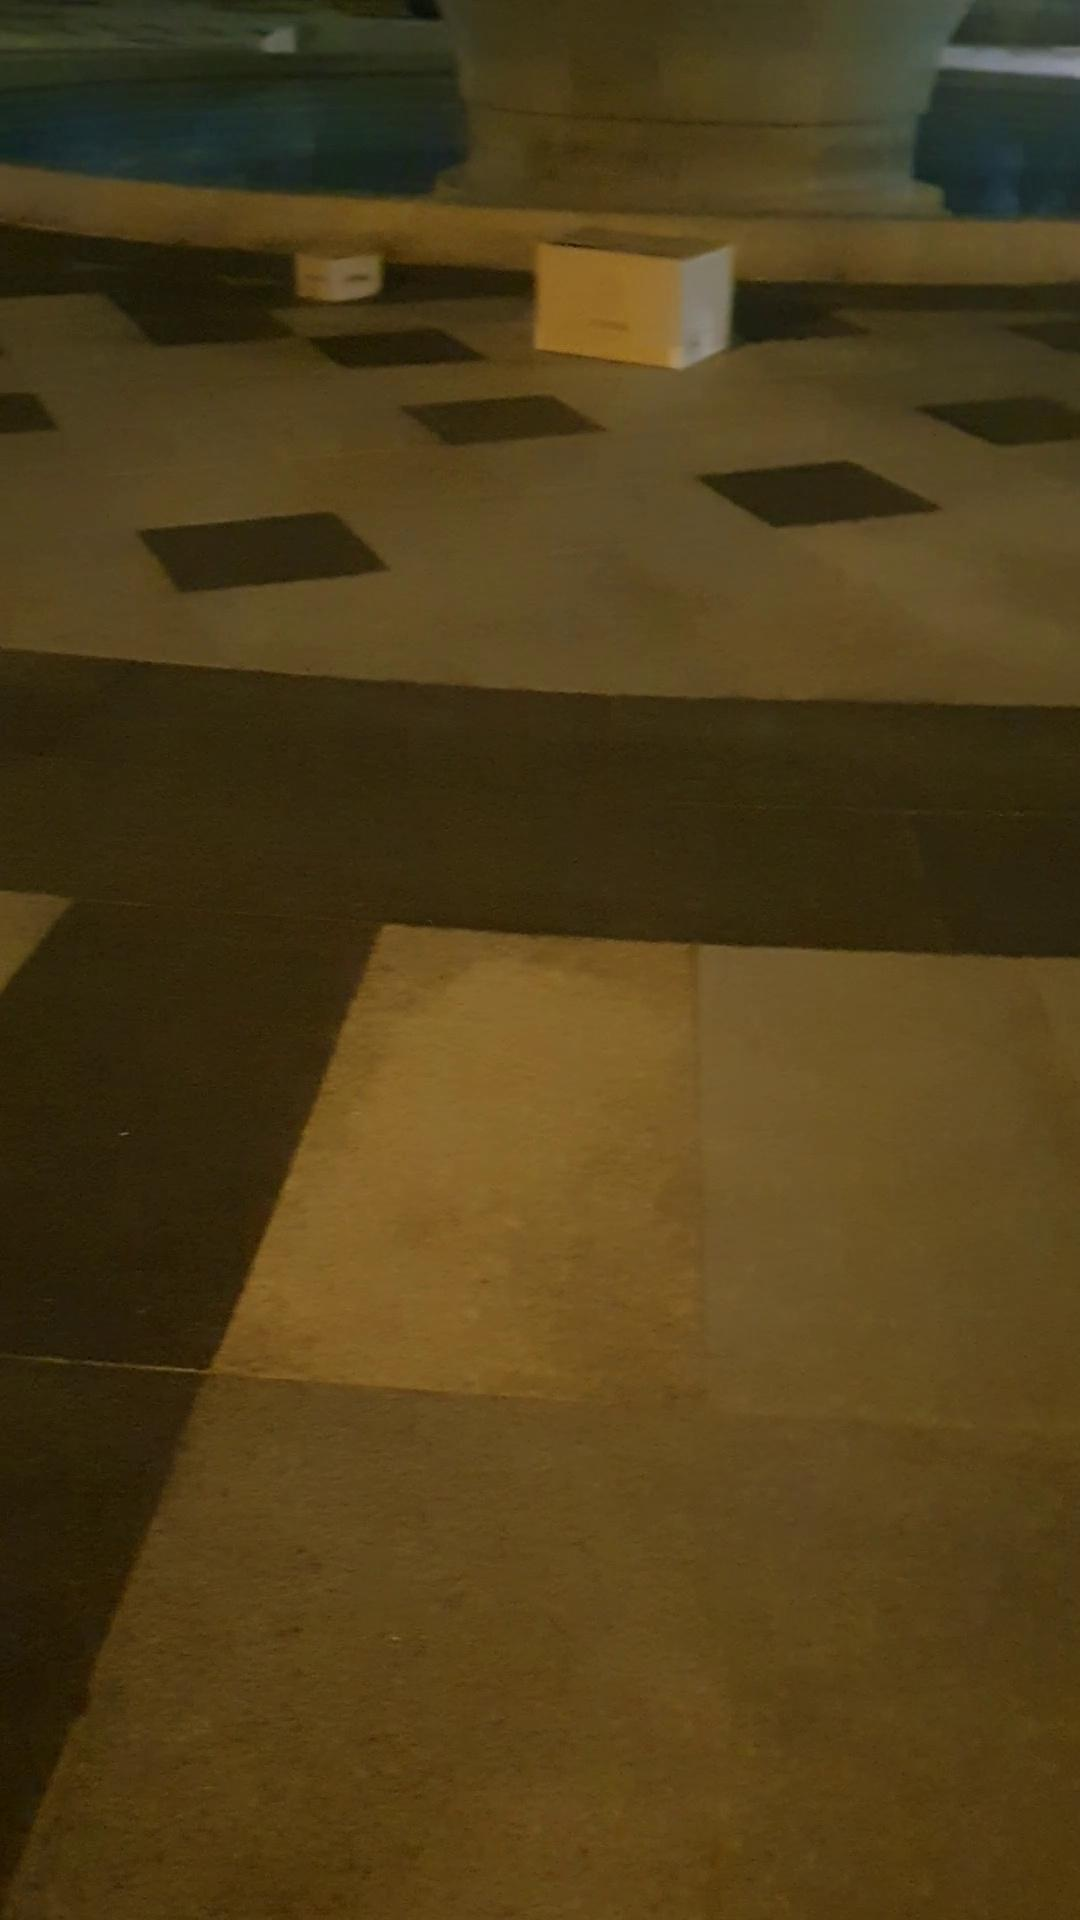Box: (524, 223, 742, 372), (278, 229, 392, 327)
